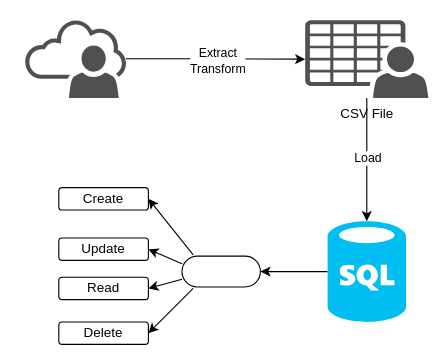
This 448x364 diagram has some shape labels left out. The shapes that lost their labels are listed below. From the top down, each one's centre as x and y in pixels, then its label:
(75,58): Online data source
(220,271): CRUD
(366,271): SQL dataset
